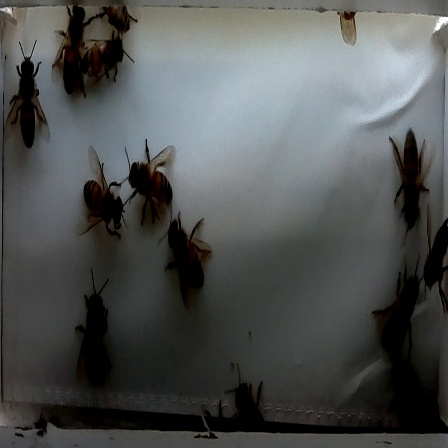bee: (57, 268, 122, 389), (153, 210, 225, 315), (376, 120, 432, 239), (5, 41, 56, 159), (67, 150, 131, 244), (113, 142, 177, 223), (369, 261, 420, 361), (74, 29, 141, 95), (52, 3, 93, 109), (217, 367, 277, 436), (417, 195, 448, 315)
